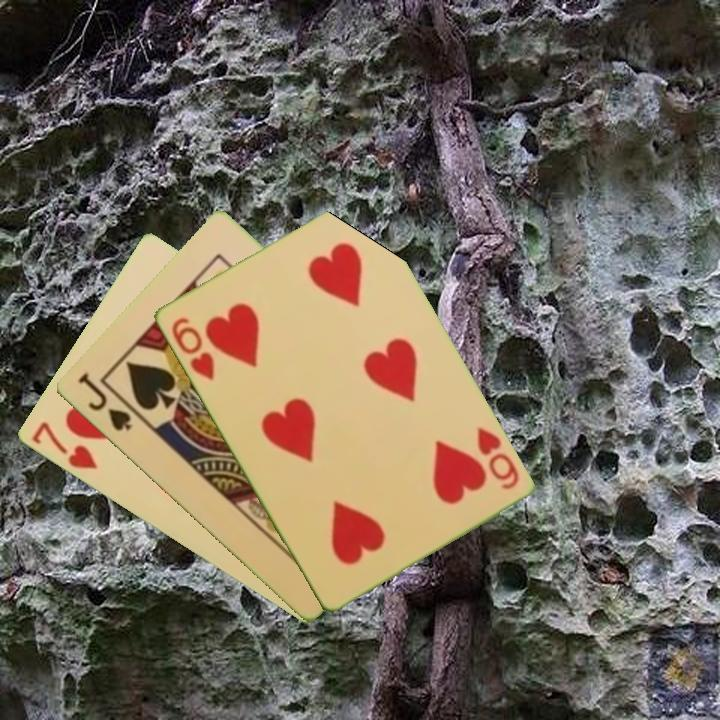6h: (167, 313, 217, 384), (472, 422, 522, 493)
7h: (27, 418, 100, 473)
Js: (73, 369, 135, 435)
